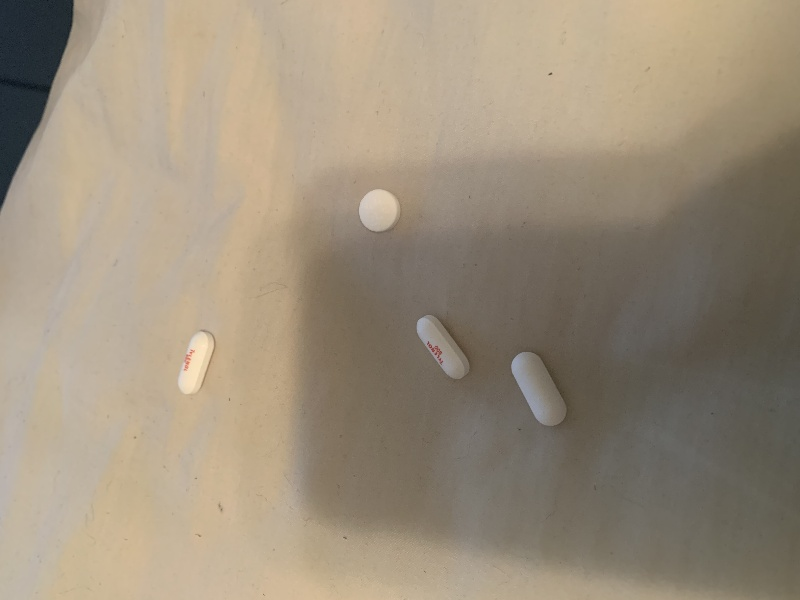Aspirin: (356, 185, 405, 236)
Tylenol: (505, 335, 574, 435), (412, 308, 475, 389), (173, 328, 221, 399)
